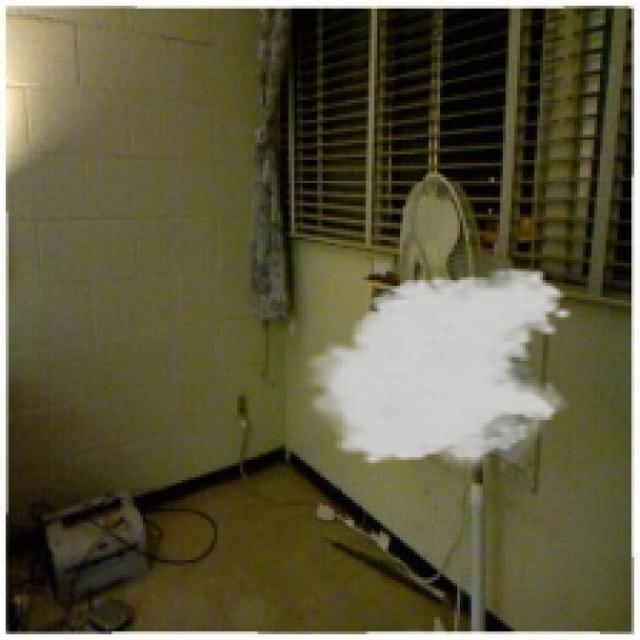smoke: (297, 266, 574, 477)
